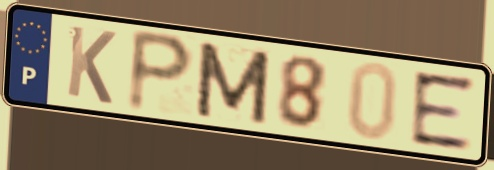0: (344, 59, 403, 144)
8: (275, 54, 329, 131)
E: (410, 69, 477, 152)
K: (63, 22, 119, 108)
M: (192, 38, 274, 127)
P: (123, 26, 198, 116)
